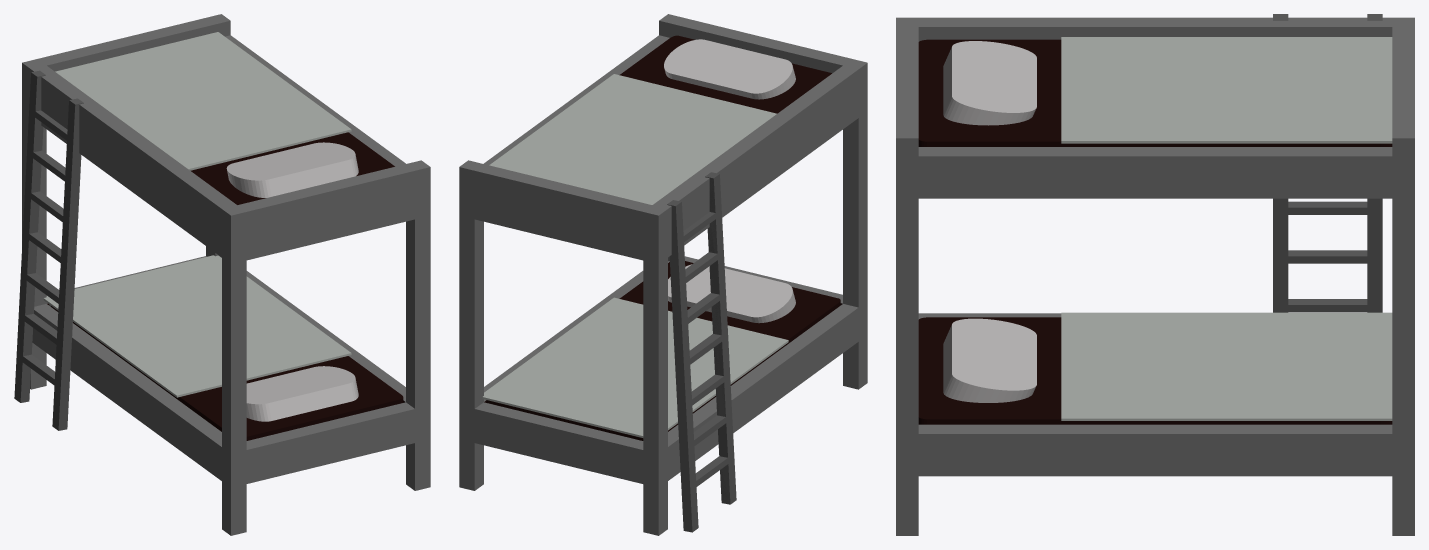
File: Bed.fbx
3 renders of one model, left to right at view 1: azimuth 30°, elevation 25°; view 2: azimuth 150°, elevation 25°; view 3: azimuth 270°, elevation 25°, orthographic. The views are drawn at different scales.
Visible parts, largest first — view 1: Cube, Cube.001; view 2: Cube, Cube.001; view 3: Cube, Cube.001.
Boxes of the visible parts, <box> form: Cube: <box>22,14,430,535</box>; Cube.001: <box>14,70,83,430</box>; Cube: <box>459,14,867,535</box>; Cube.001: <box>667,172,736,532</box>; Cube: <box>896,17,1414,535</box>; Cube.001: <box>1273,14,1382,312</box>.
Size of the model in its own units: 671 by 952 by 1103.
